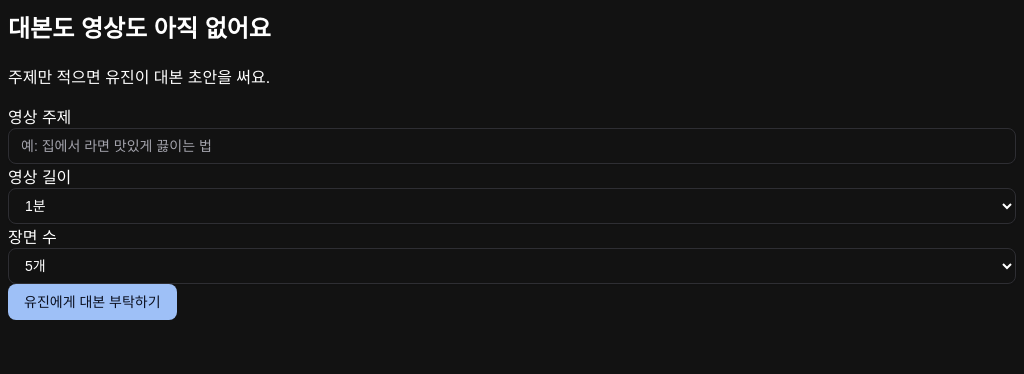
Test: 유진이 대본 초안 쓰기 › 닿지 못한 것과 쓸 수 없는 대본이 온 것을 다르게 말한다
Type "집에서 라면 맛있게 끓이는 법" into the field labelled "영상 주제".
click(512, 146); type("집에서 라면 맛있게 끓이는 법")  # box [8,128,1016,164]
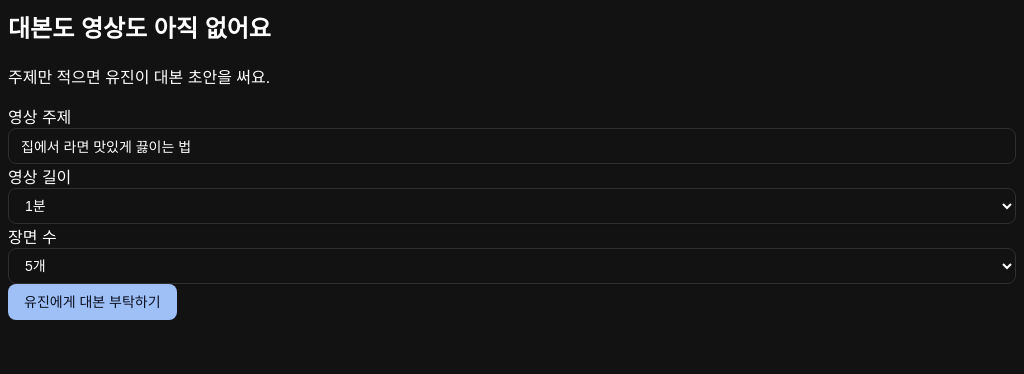
Click the button "유진에게 대본 부탁하기".
click(92, 302)  # box [8,284,177,320]
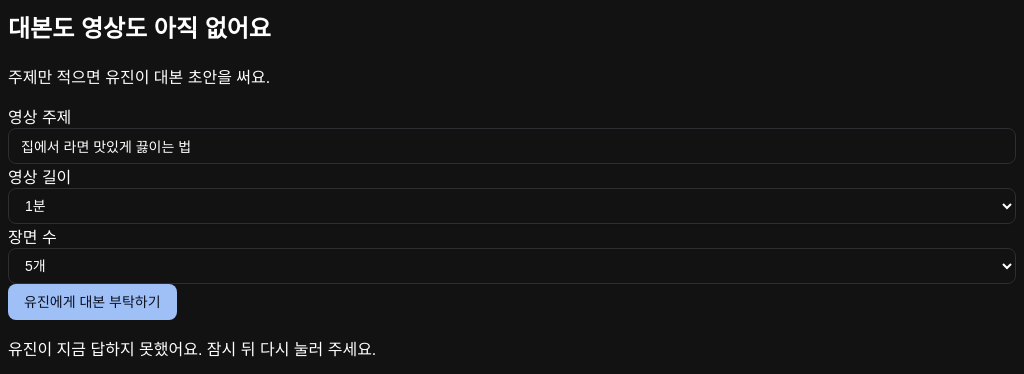
Expected: the message shows "잠시 뒤 다시", [8,341,376,358]
Click the button "유진에게 대본 부탁하기".
click(92, 302)  # box [8,284,177,320]
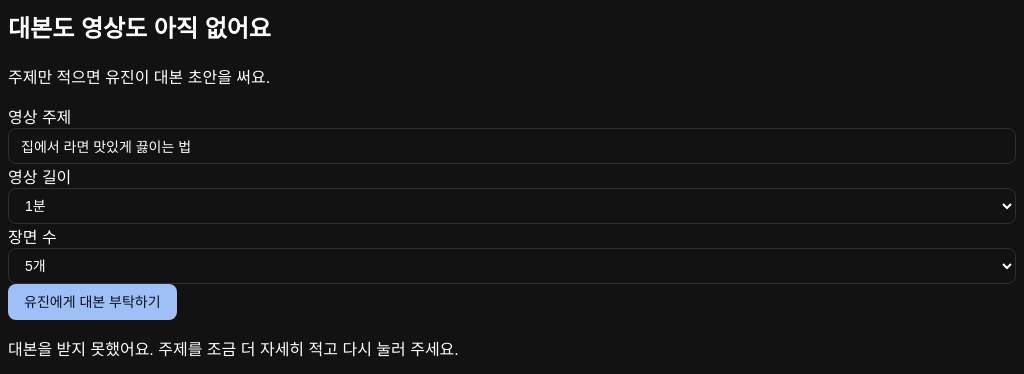
Expected: the message shows "주제를 조금 더 자세히", [8,341,459,358]
